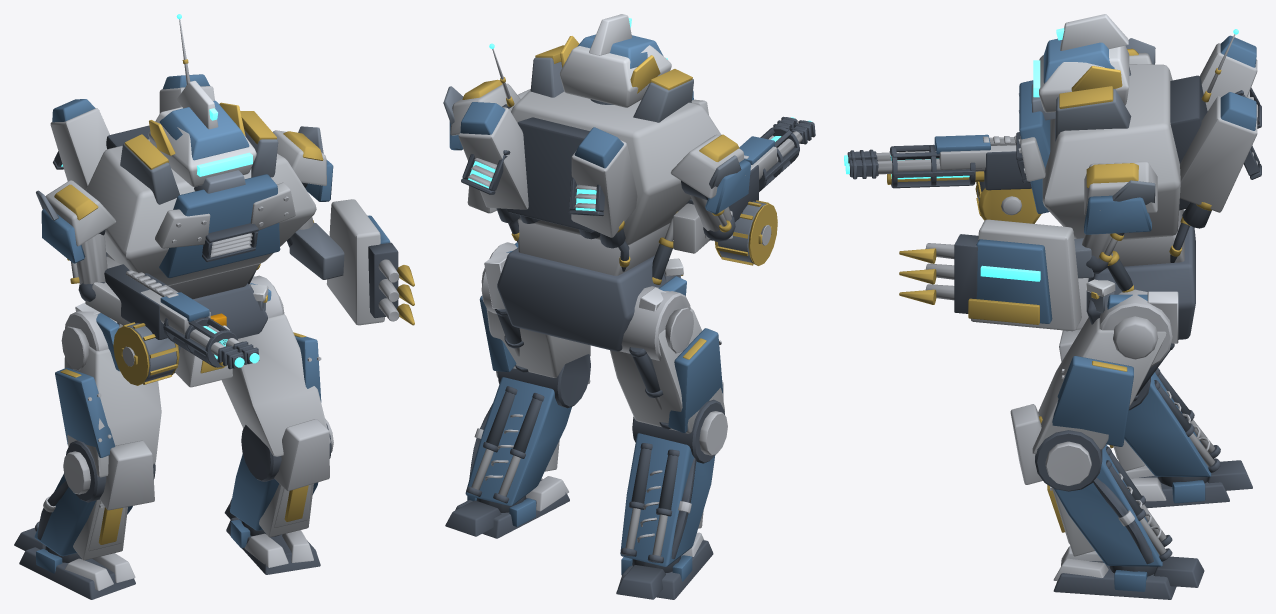
File: shock_breacher.glb
3 renders of one model, left to right at view 1: azimuth 30°, elevation 25°; view 2: azimuth 150°, elevation 25°; view 3: azimuth 270°, elevation 25°, orthographic. The views are drawn at different scales.
Visible parts, largest first — view 1: BodyGroup_ArmorAlloy, LeftArm_ArmorAlloy, RightArm_ArmorAlloy, RightThigh_ArmorAlloy, RightShin_ArmorAlloy, LeftThigh_ArmorAlloy, LeftShin_ArmorAlloy, HeadGroup_ArmorAlloy, Pelvis_ArmorAlloy, WeaponSlide_ArmorAlloy, RightFoot_ArmorAlloy, LeftFoot_ArmorAlloy (+1 smaller); view 2: BodyGroup_ArmorAlloy, Pelvis_ArmorAlloy, RightShin_ArmorAlloy, RightThigh_ArmorAlloy, LeftShin_ArmorAlloy, RightArm_ArmorAlloy, HeadGroup_ArmorAlloy, LeftThigh_ArmorAlloy, LeftFoot_ArmorAlloy, RightFoot_ArmorAlloy, WeaponSlide_ArmorAlloy, LeftArm_ArmorAlloy (+1 smaller); view 3: BodyGroup_ArmorAlloy, LeftArm_ArmorAlloy, LeftShin_ArmorAlloy, LeftThigh_ArmorAlloy, RightShin_ArmorAlloy, HeadGroup_ArmorAlloy, WeaponSlide_ArmorAlloy, Pelvis_ArmorAlloy, LeftFoot_ArmorAlloy, RightArm_ArmorAlloy, RightFoot_ArmorAlloy, LeftArm_A2_CyanReactor.
Boxes of the visible parts, x1,y1,x2,y2 form: BodyGroup_ArmorAlloy: (50, 19, 316, 299); LeftArm_ArmorAlloy: (273, 126, 414, 325); RightArm_ArmorAlloy: (36, 180, 179, 385); RightThigh_ArmorAlloy: (55, 311, 161, 477); RightShin_ArmorAlloy: (34, 440, 155, 560); LeftThigh_ArmorAlloy: (221, 275, 330, 456); LeftShin_ArmorAlloy: (230, 418, 333, 537); HeadGroup_ArmorAlloy: (148, 80, 256, 193); Pelvis_ArmorAlloy: (75, 275, 271, 387); WeaponSlide_ArmorAlloy: (141, 285, 259, 369); RightFoot_ArmorAlloy: (14, 527, 135, 599); LeftFoot_ArmorAlloy: (224, 503, 320, 574); BodyGroup_ArmorAlloy: (458, 45, 721, 284); Pelvis_ArmorAlloy: (484, 242, 686, 351); RightShin_ArmorAlloy: (620, 382, 727, 566); RightThigh_ArmorAlloy: (610, 286, 724, 433); LeftShin_ArmorAlloy: (465, 354, 590, 505); RightArm_ArmorAlloy: (671, 134, 777, 265); HeadGroup_ArmorAlloy: (559, 14, 671, 107); LeftThigh_ArmorAlloy: (479, 242, 590, 377); LeftFoot_ArmorAlloy: (445, 476, 569, 538); RightFoot_ArmorAlloy: (616, 532, 713, 599); WeaponSlide_ArmorAlloy: (739, 116, 815, 191); LeftArm_ArmorAlloy: (443, 79, 530, 213); BodyGroup_ArmorAlloy: (1016, 34, 1261, 292); LeftArm_ArmorAlloy: (899, 161, 1157, 331); LeftShin_ArmorAlloy: (1010, 404, 1172, 566); LeftThigh_ArmorAlloy: (1032, 289, 1174, 454); RightShin_ArmorAlloy: (1059, 329, 1220, 476); HeadGroup_ArmorAlloy: (1031, 14, 1129, 120); WeaponSlide_ArmorAlloy: (847, 134, 1016, 188); Pelvis_ArmorAlloy: (1065, 210, 1195, 343); LeftFoot_ArmorAlloy: (1053, 546, 1204, 599); RightArm_ArmorAlloy: (975, 38, 1155, 223); RightFoot_ArmorAlloy: (1125, 460, 1252, 508); LeftArm_A2_CyanReactor: (980, 265, 1040, 281).
Bounding box in the file's own units: 1.19 × 1.95 × 1.38.
Materials: 5 (1 with a texture image).
